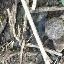Purslane: (40, 0, 64, 46)
